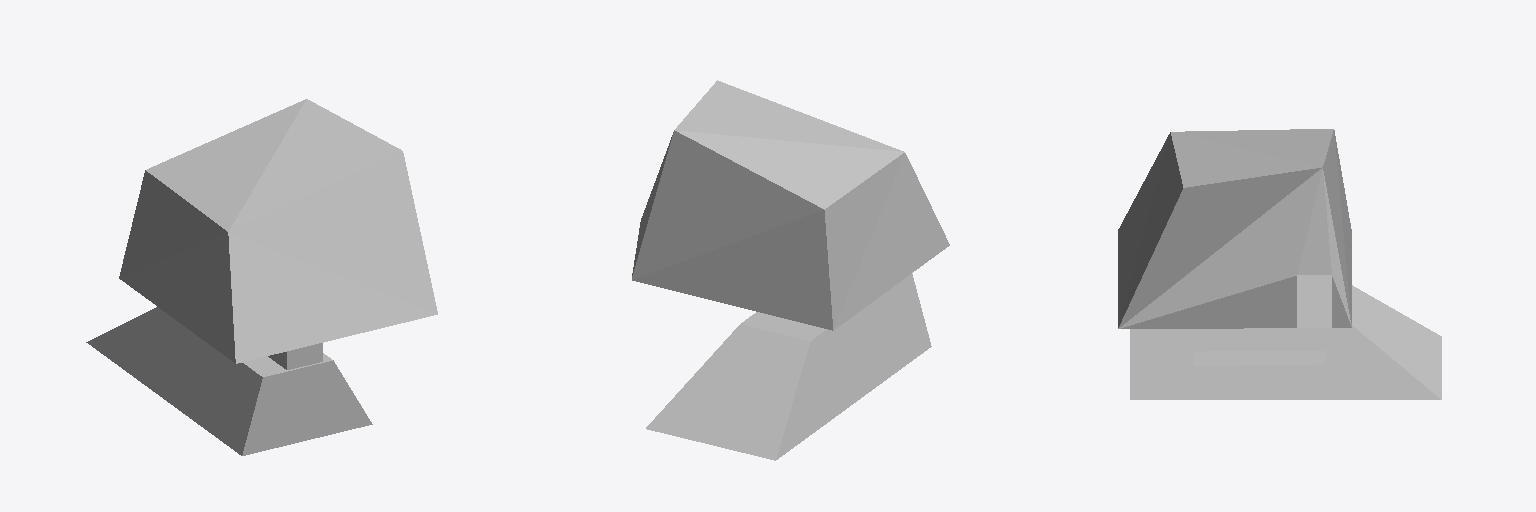
File: building.obj
3 renders of one model, left to right at view 1: azimuth 30°, elevation 25°; view 2: azimuth 150°, elevation 25°; view 3: azimuth 270°, elevation 25°, orthographic.
Parts seen in each view (by area): view 1: Building1_Cube.004; view 2: Building1_Cube.004; view 3: Building1_Cube.004.
Part boxes in pixels (x1,y1,x2,y2): Building1_Cube.004: (86, 99, 437, 455); Building1_Cube.004: (632, 80, 949, 460); Building1_Cube.004: (1118, 129, 1441, 399).
Bounding box in the file's own units: 5.75 × 6.72 × 7.96.